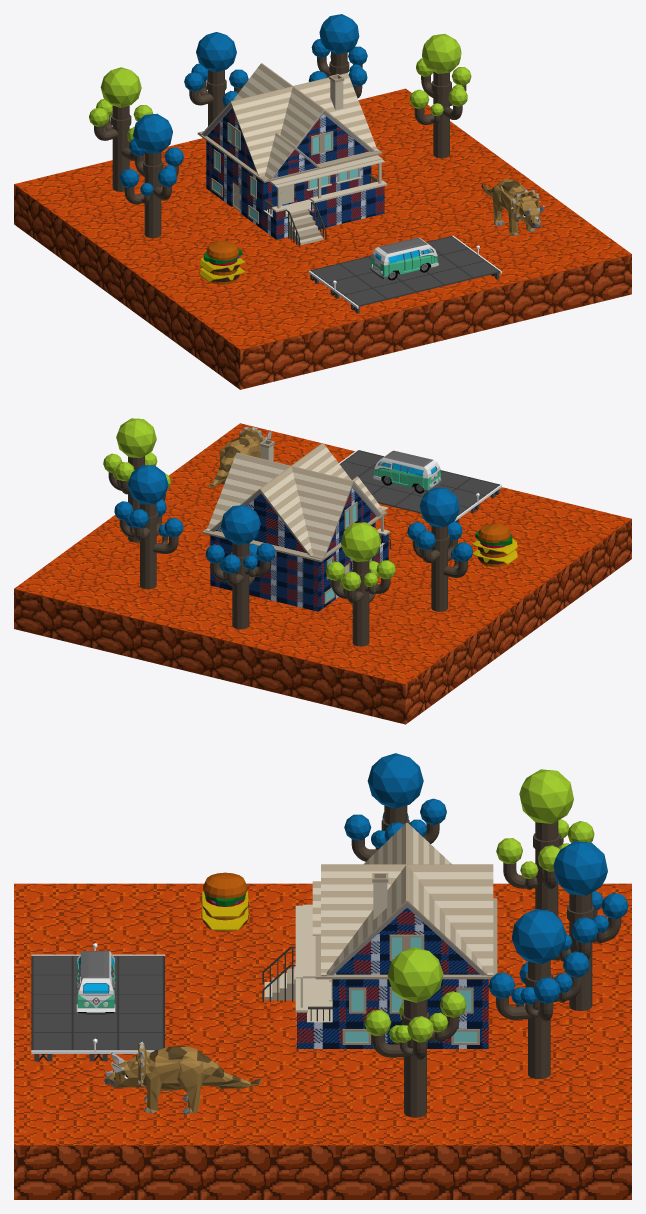
3 views of the same model, one above another, from view 1: azimuth 30°, elevation 25°; view 2: azimuth 150°, elevation 25°; view 3: azimuth 270°, elevation 25° (orthographic). The views are drawn at different scales.
Visible parts, largest first — view 1: Cube.001, Cube.171, ANIMAL_Triceratops, VEHICLES_VAN, OBJRANDOM_HAMBURGER; view 2: Cube.001, Cube.171, VEHICLES_VAN, OBJRANDOM_HAMBURGER, ANIMAL_Triceratops; view 3: Cube.001, Cube.171, ANIMAL_Triceratops, OBJRANDOM_HAMBURGER, VEHICLES_VAN.
Boxes of the visible parts, left/top/right/bottom form: Cube.001: left=14, top=14, right=631, bottom=389; Cube.171: left=197, top=63, right=387, bottom=246; ANIMAL_Triceratops: left=481, top=179, right=544, bottom=235; VEHICLES_VAN: left=369, top=237, right=438, bottom=280; OBJRANDOM_HAMBURGER: left=199, top=241, right=245, bottom=284; Cube.001: left=14, top=418, right=631, bottom=724; Cube.171: left=202, top=439, right=390, bottom=611; VEHICLES_VAN: left=373, top=450, right=442, bottom=493; OBJRANDOM_HAMBURGER: left=471, top=523, right=517, bottom=566; ANIMAL_Triceratops: left=208, top=427, right=271, bottom=487; Cube.001: left=14, top=753, right=631, bottom=1199; Cube.171: left=262, top=823, right=497, bottom=1048; ANIMAL_Triceratops: left=103, top=1041, right=261, bottom=1114; OBJRANDOM_HAMBURGER: left=201, top=872, right=249, bottom=932; VEHICLES_VAN: left=76, top=951, right=116, bottom=1014.
Size of the model in its own units: 4000 by 1614 by 4000.
37 materials, 6 textured.
